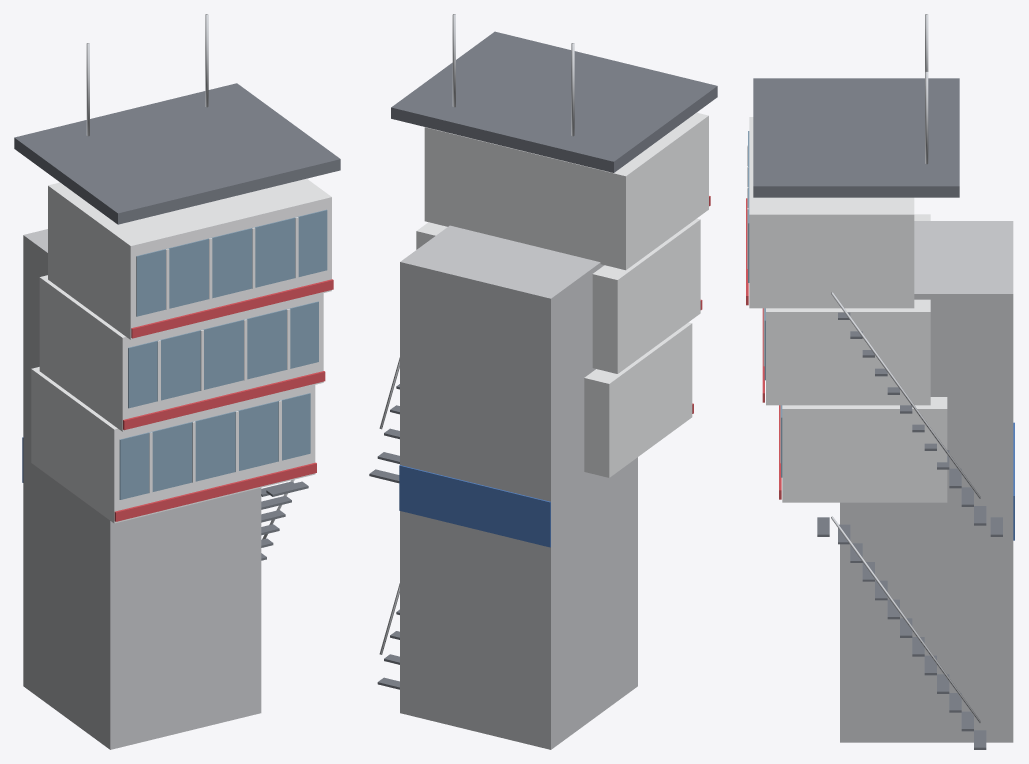
File: judges_tower.glb
3 renders of one model, left to right at view 1: azimuth 30°, elevation 25°; view 2: azimuth 150°, elevation 25°; view 3: azimuth 270°, elevation 25°, orthographic.
Parts seen in each view (by area): view 1: judges_tower; view 2: judges_tower; view 3: judges_tower.
Boxes of the visible parts, bbox=[...] form: judges_tower: bbox=[14, 14, 340, 749]; judges_tower: bbox=[369, 14, 717, 749]; judges_tower: bbox=[746, 14, 1014, 749].
Bounding box in the file's own units: 6.22 × 17.8 × 6.52.
